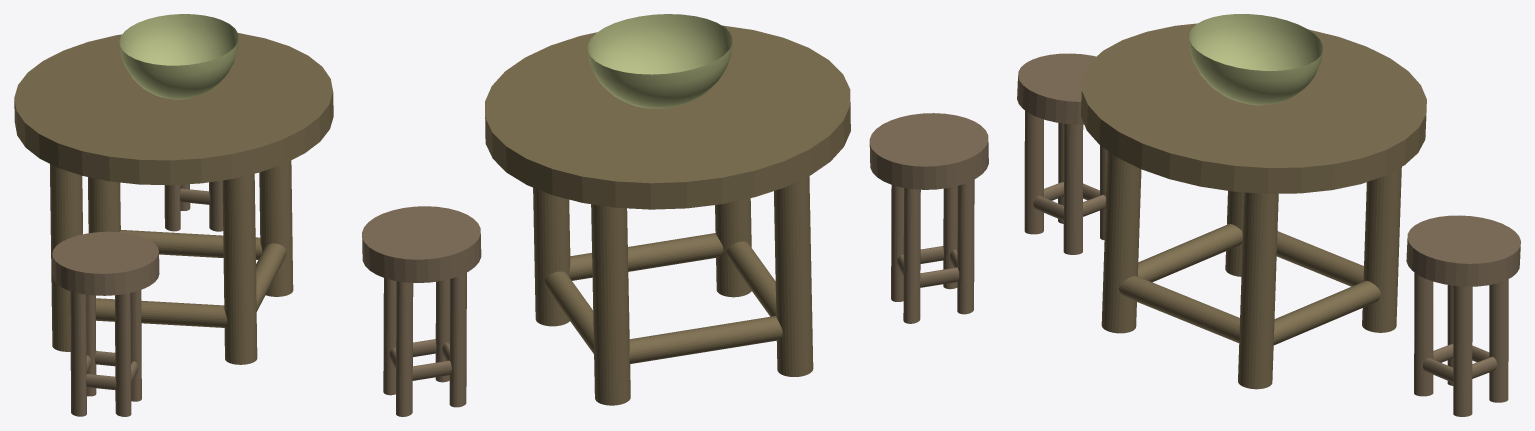
The picture shows the model from 3 angles, left to right: view 1: azimuth 30°, elevation 25°; view 2: azimuth 150°, elevation 25°; view 3: azimuth 270°, elevation 25°; orthographic projection. The views are drawn at different scales.
Parts seen in each view (by area): view 1: Cylinder.002; view 2: Cylinder.002; view 3: Cylinder.002.
Part boxes in pixels (left/top/right/bottom): Cylinder.002: left=14, top=14, right=333, bottom=416; Cylinder.002: left=362, top=14, right=988, bottom=416; Cylinder.002: left=1017, top=14, right=1520, bottom=416.
Bounding box in the file's own units: 5.06 × 3.69 × 5.64.
